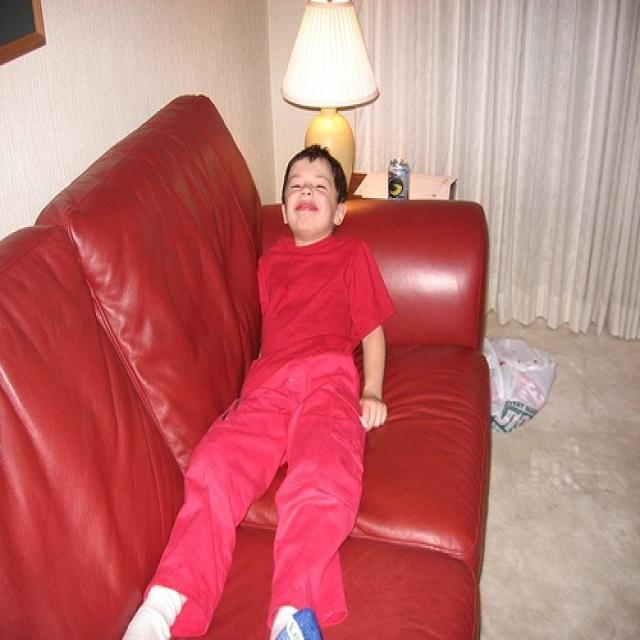sofa: (2, 99, 488, 638)
